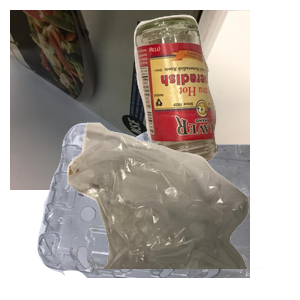cardboard: (10, 10, 250, 190)
glass: (131, 12, 300, 170)
plastic: (35, 120, 275, 300)
trash: (65, 120, 300, 300)
